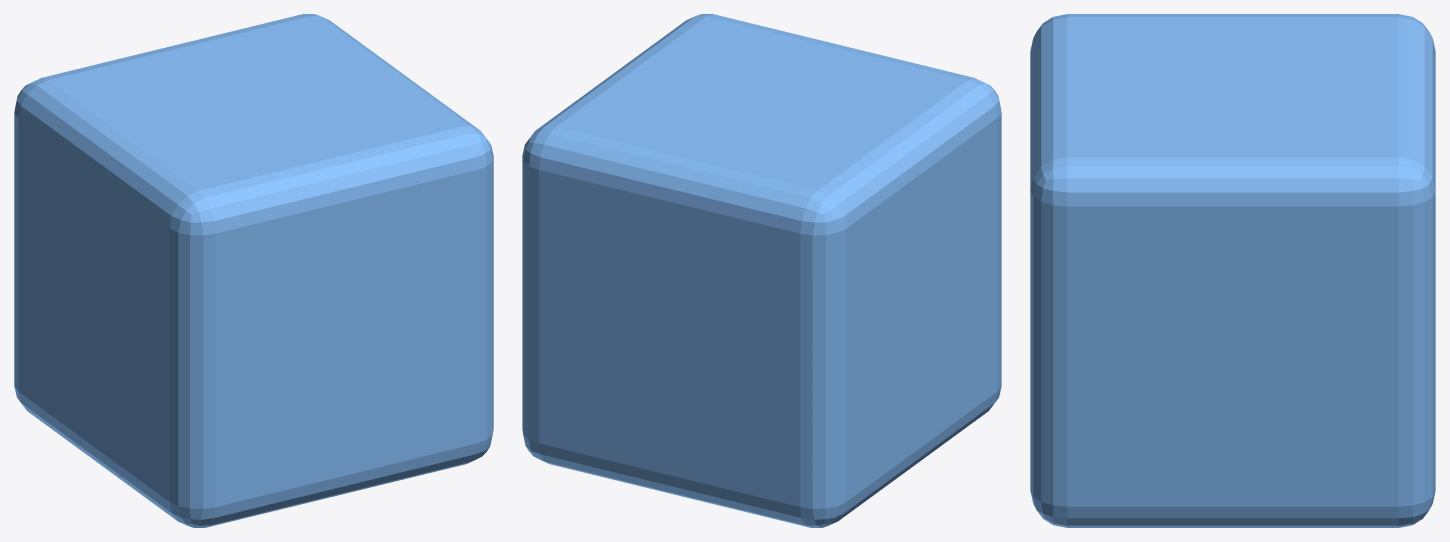
Rendered from led.fbx.
3 renders of one model, left to right at view 1: azimuth 30°, elevation 25°; view 2: azimuth 150°, elevation 25°; view 3: azimuth 270°, elevation 25°, orthographic. The views are drawn at different scales.
Visible parts, largest first — view 1: led; view 2: led; view 3: led.
Boxes of the visible parts, x1,y1,x2,y2 form: led: (14,14,493,527); led: (522,14,1001,527); led: (1030,14,1435,527).
Size of the model in its own units: 200 by 200 by 200.
